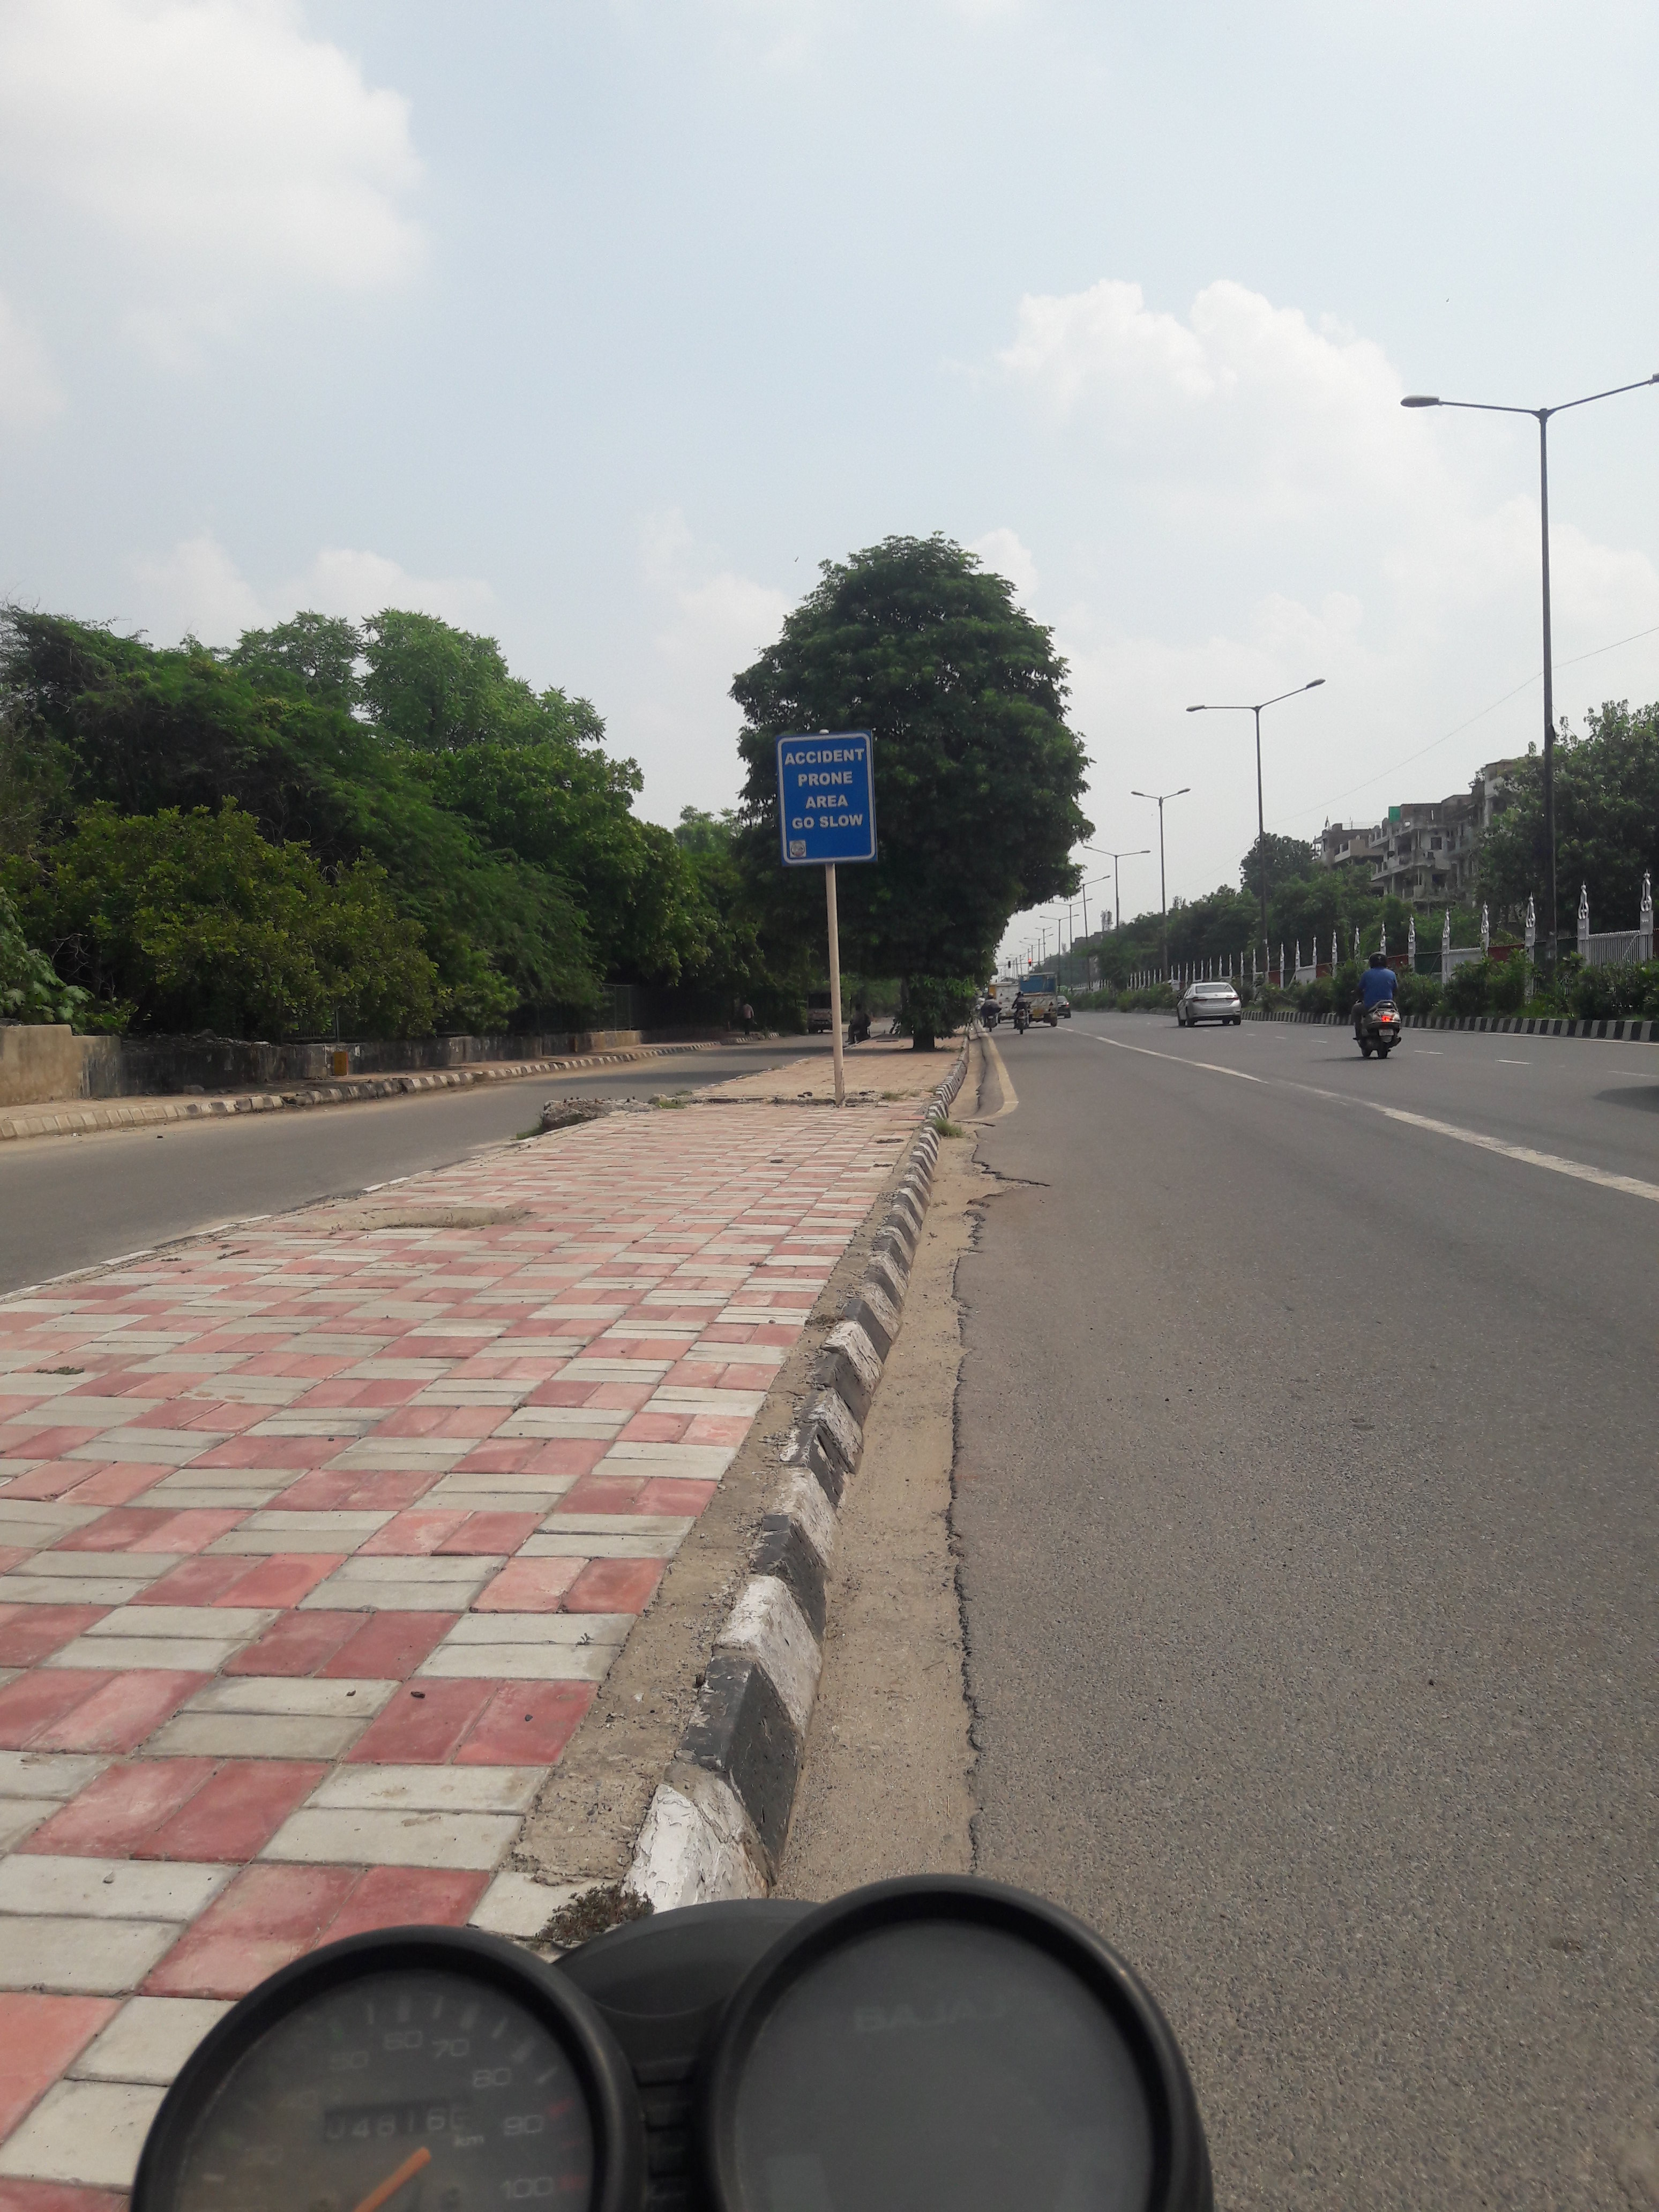traffic_sign: (775, 732, 877, 866)
